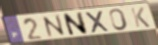0: (108, 8, 129, 32)
2: (22, 17, 45, 41)
K: (129, 6, 152, 28)
N: (61, 11, 89, 37), (40, 13, 68, 39)
X: (84, 10, 112, 35)
